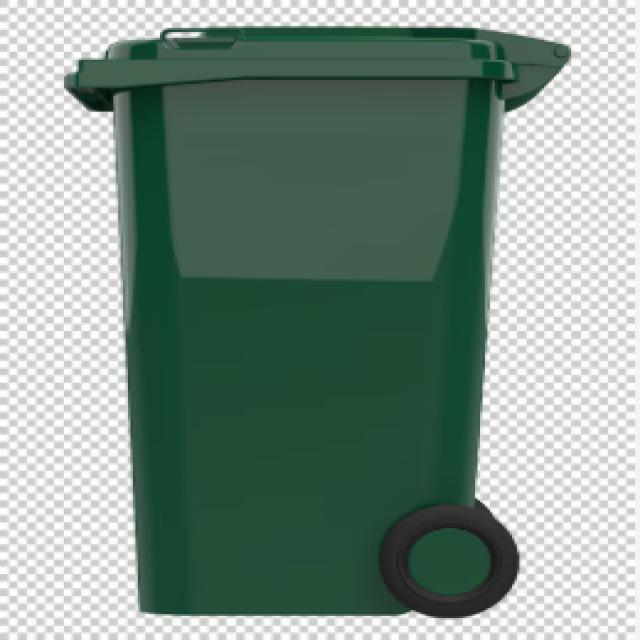garbage container: (56, 14, 584, 624)
